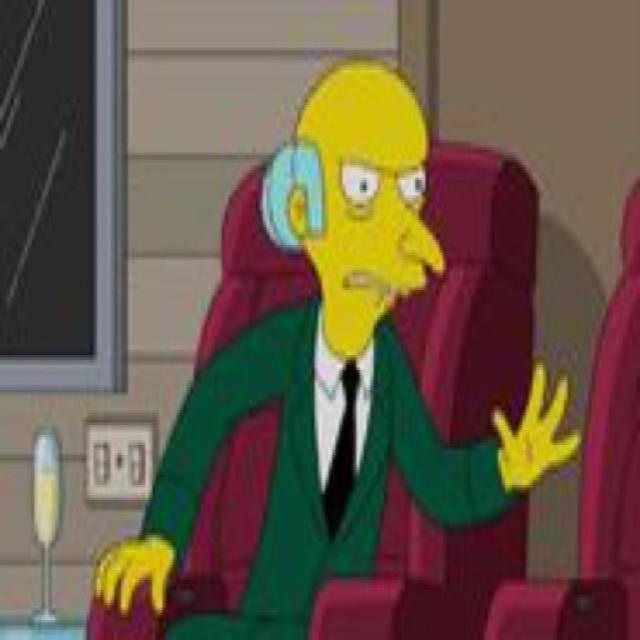Charles Montgomery Burns: (255, 55, 445, 370)
